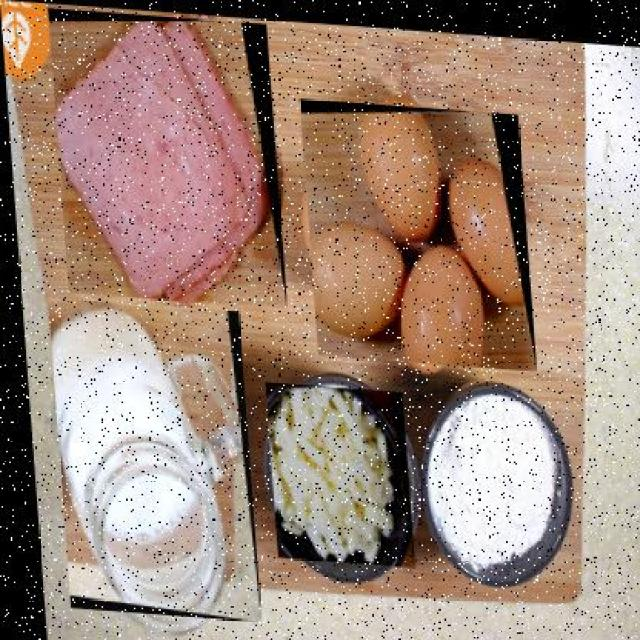Cheese: (258, 377, 407, 561)
Egg: (296, 92, 532, 363)
Ham: (46, 6, 283, 305)
Milk: (41, 296, 252, 618)
